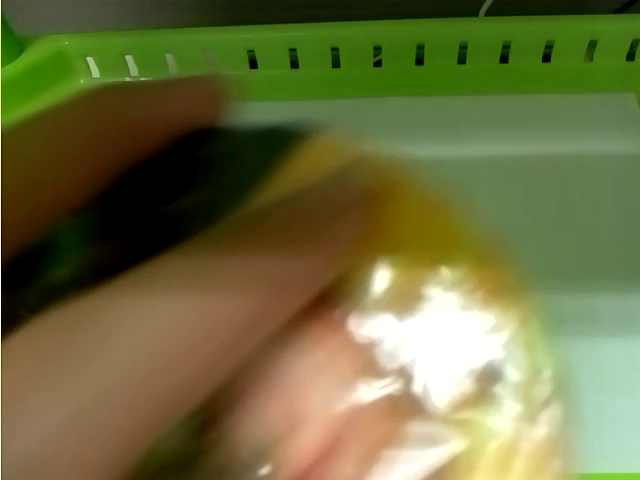hand: (1, 76, 362, 471)
noodles: (16, 127, 575, 475)
